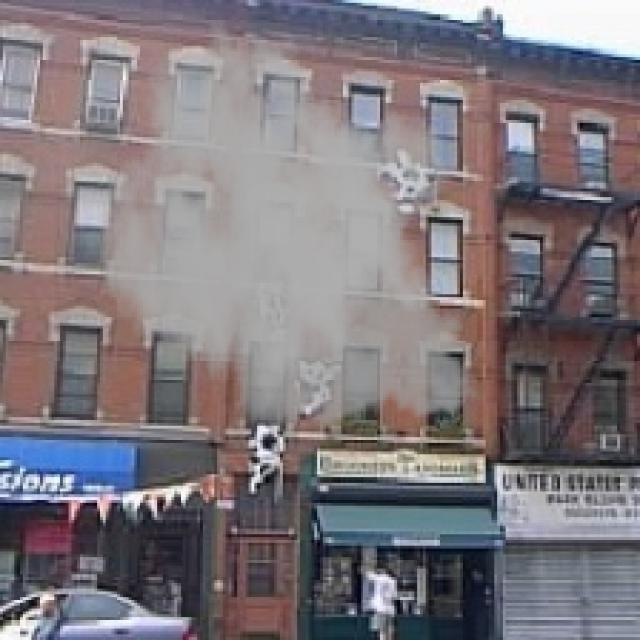Smoke: (97, 17, 489, 443)
